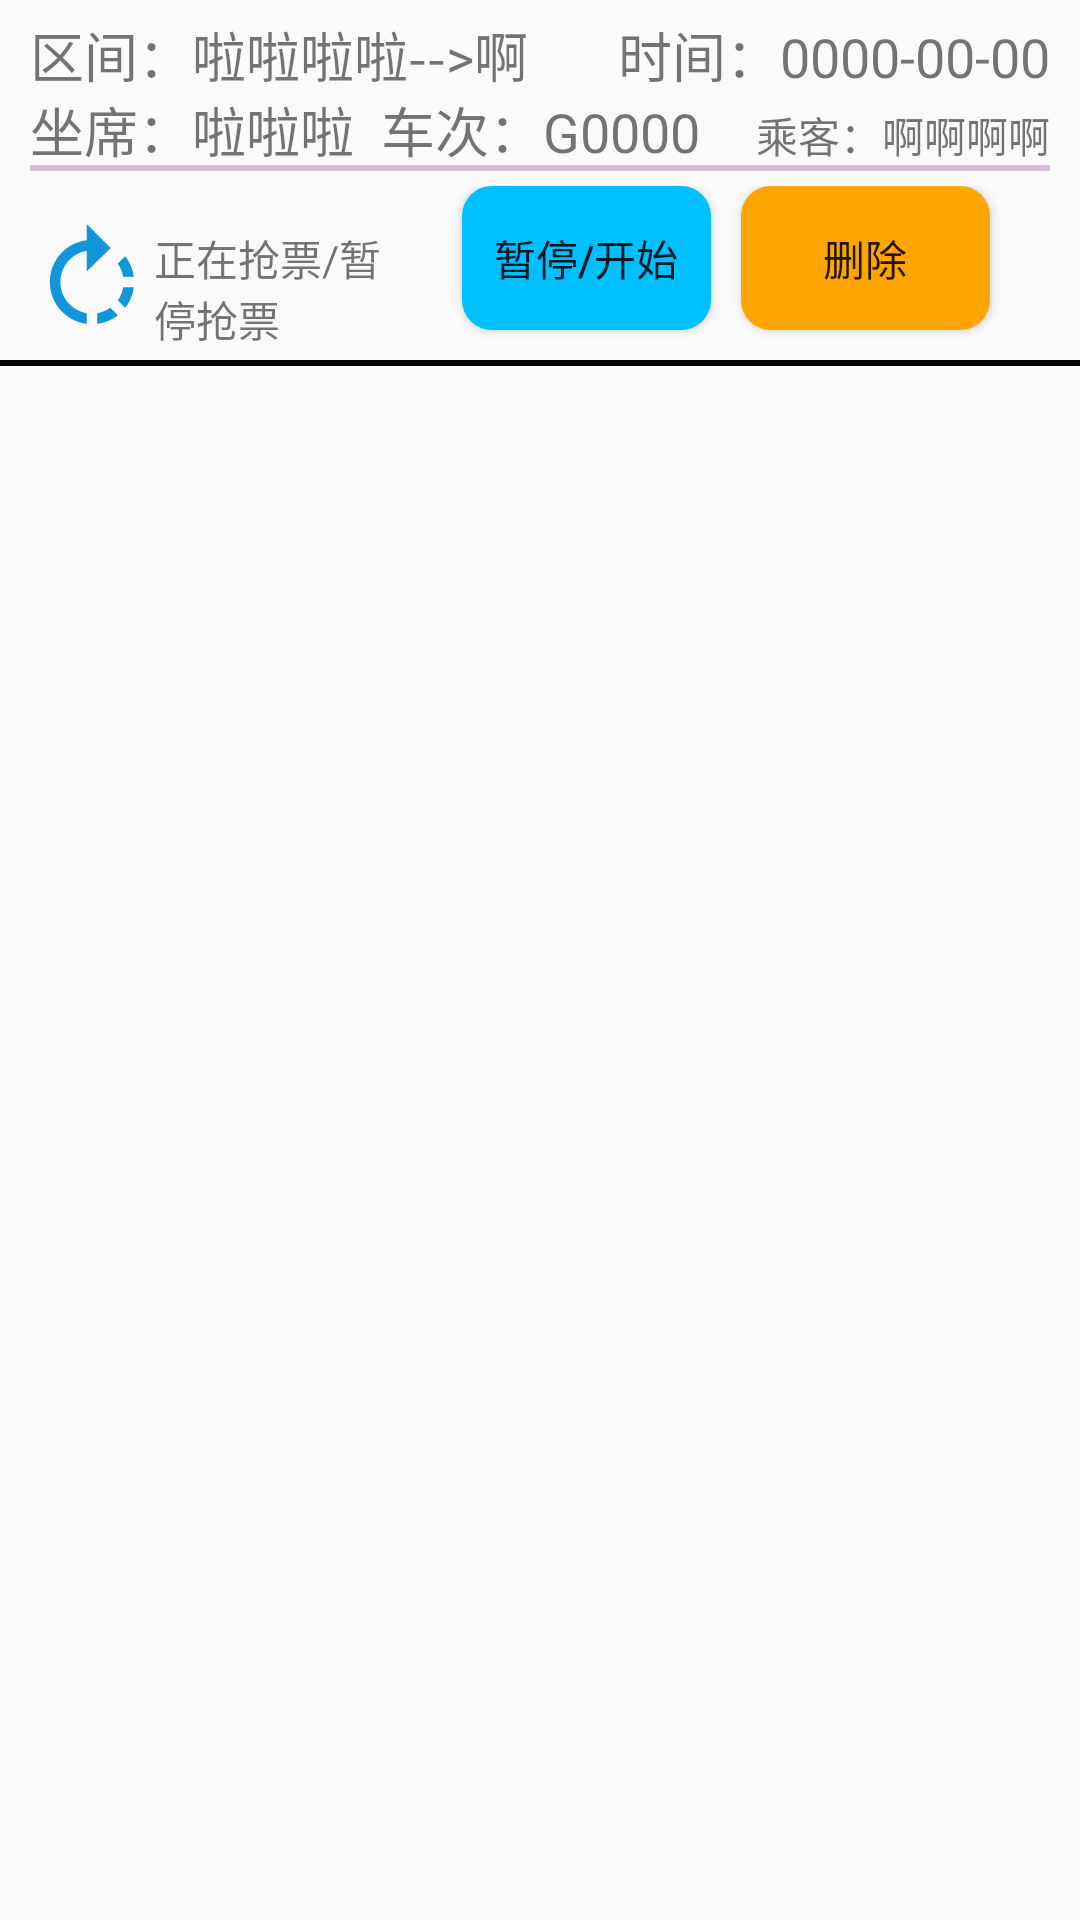

Where to tap for icons on this 1080×1920 app screen, as (x=x, y=y):
supervise load: (x=91, y=274)
